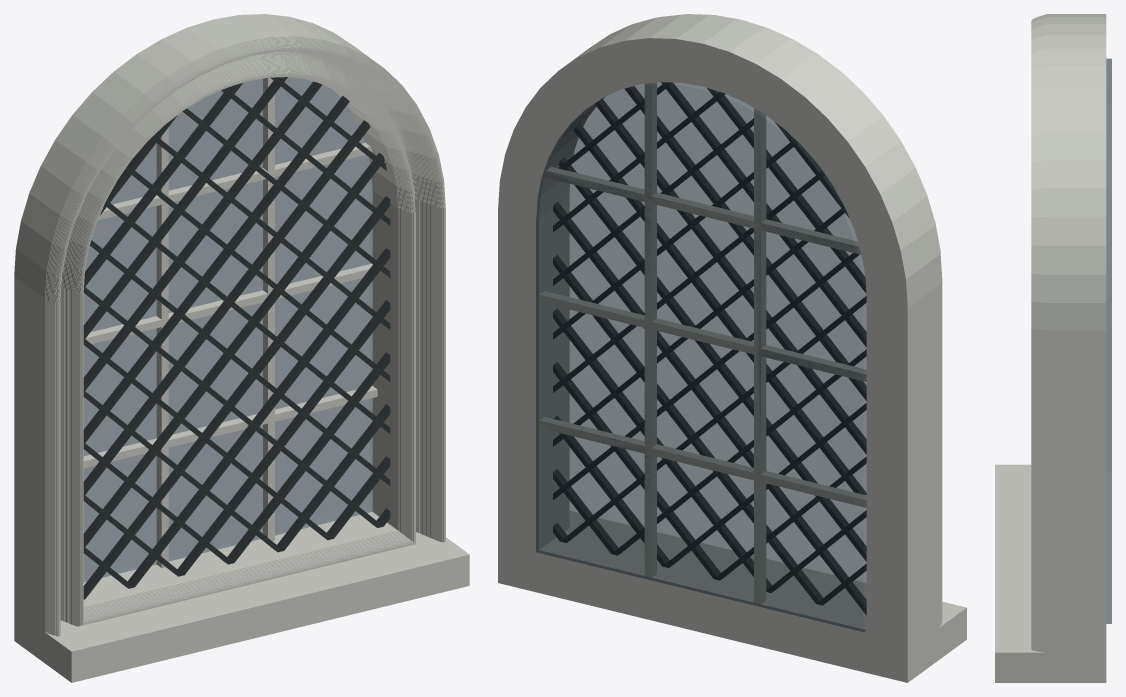
File: barroco_arch_con_reja.glb
3 views of the same model, side by side, from view 1: azimuth 30°, elevation 25°; view 2: azimuth 150°, elevation 25°; view 3: azimuth 270°, elevation 25° (orthographic). The views are drawn at different scales.
Visible parts, largest first — view 1: window_glass#0001, window_grille#0001, window_sill#0001, window_profile#0096, window_reveal#0001, window_mullion#0001, window_profile#0001, window_profile#0016, window_profile#0021, window_profile#0013, window_profile#0085, window_profile#0020 (+72 smaller); view 2: window_glass#0001, window_reveal#0001, window_grille#0001, window_mullion#0001, window_profile#0096, window_profile#0001, window_sill#0001, window_profile#0093, window_profile#0095, window_profile#0094, window_profile#0092, window_profile#0090 (+2 smaller); view 3: window_profile#0096, window_reveal#0001, window_sill#0001, window_glass#0001, window_profile#0093, window_profile#0095, window_profile#0094, window_profile#0091, window_profile#0092, window_profile#0090, window_profile#0089, window_profile#0088 (+6 smaller).
Boxes of the visible parts, x1,y1,x2,y2 form: window_glass#0001: (83,77,372,581); window_grille#0001: (83,77,390,599); window_sill#0001: (22,532,469,682); window_profile#0096: (25,22,416,658); window_reveal#0001: (14,14,385,646); window_mullion#0001: (83,77,377,567); window_profile#0001: (83,83,398,607); window_profile#0016: (82,75,414,623); window_profile#0021: (79,72,415,625); window_profile#0013: (83,76,412,621); window_profile#0085: (56,46,445,636); window_profile#0020: (80,73,415,625); window_glass#0001: (536,82,866,631); window_reveal#0001: (498,28,921,682); window_grille#0001: (553,82,866,614); window_mullion#0001: (539,83,866,603); window_profile#0096: (572,14,939,666); window_profile#0001: (551,97,866,617); window_sill#0001: (570,511,966,675); window_profile#0093: (685,14,940,625); window_profile#0095: (683,14,939,626); window_profile#0094: (683,14,940,625); window_profile#0092: (690,14,940,624); window_profile#0090: (687,14,941,623); window_profile#0096: (1046,14,1083,682); window_reveal#0001: (1080,14,1106,682); window_sill#0001: (995,464,1089,682); window_glass#0001: (1106,58,1111,623); window_profile#0093: (1041,15,1043,652); window_profile#0095: (1045,14,1046,652); window_profile#0094: (1043,15,1044,652); window_profile#0091: (1039,16,1040,651); window_profile#0092: (1040,16,1041,651); window_profile#0090: (1037,16,1038,651); window_profile#0089: (1036,17,1037,651); window_profile#0088: (1035,17,1036,651).
Bounding box in the file's own units: 1.6 × 2.2 × 0.42.
